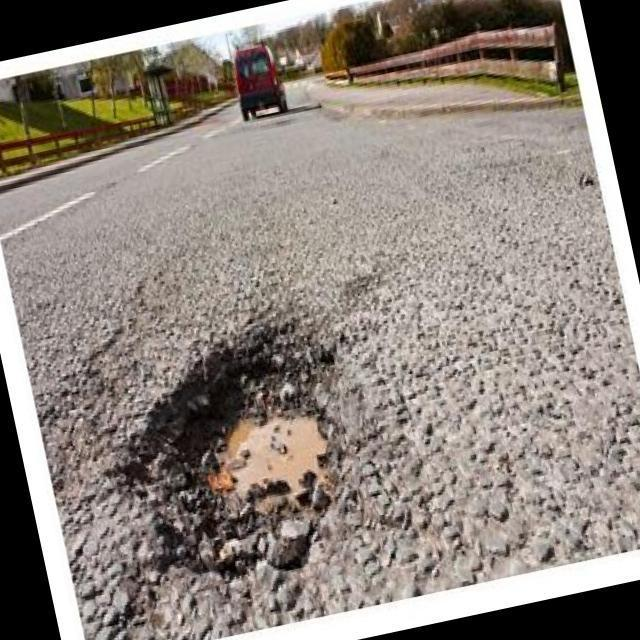Pothole: (141, 323, 331, 590)
